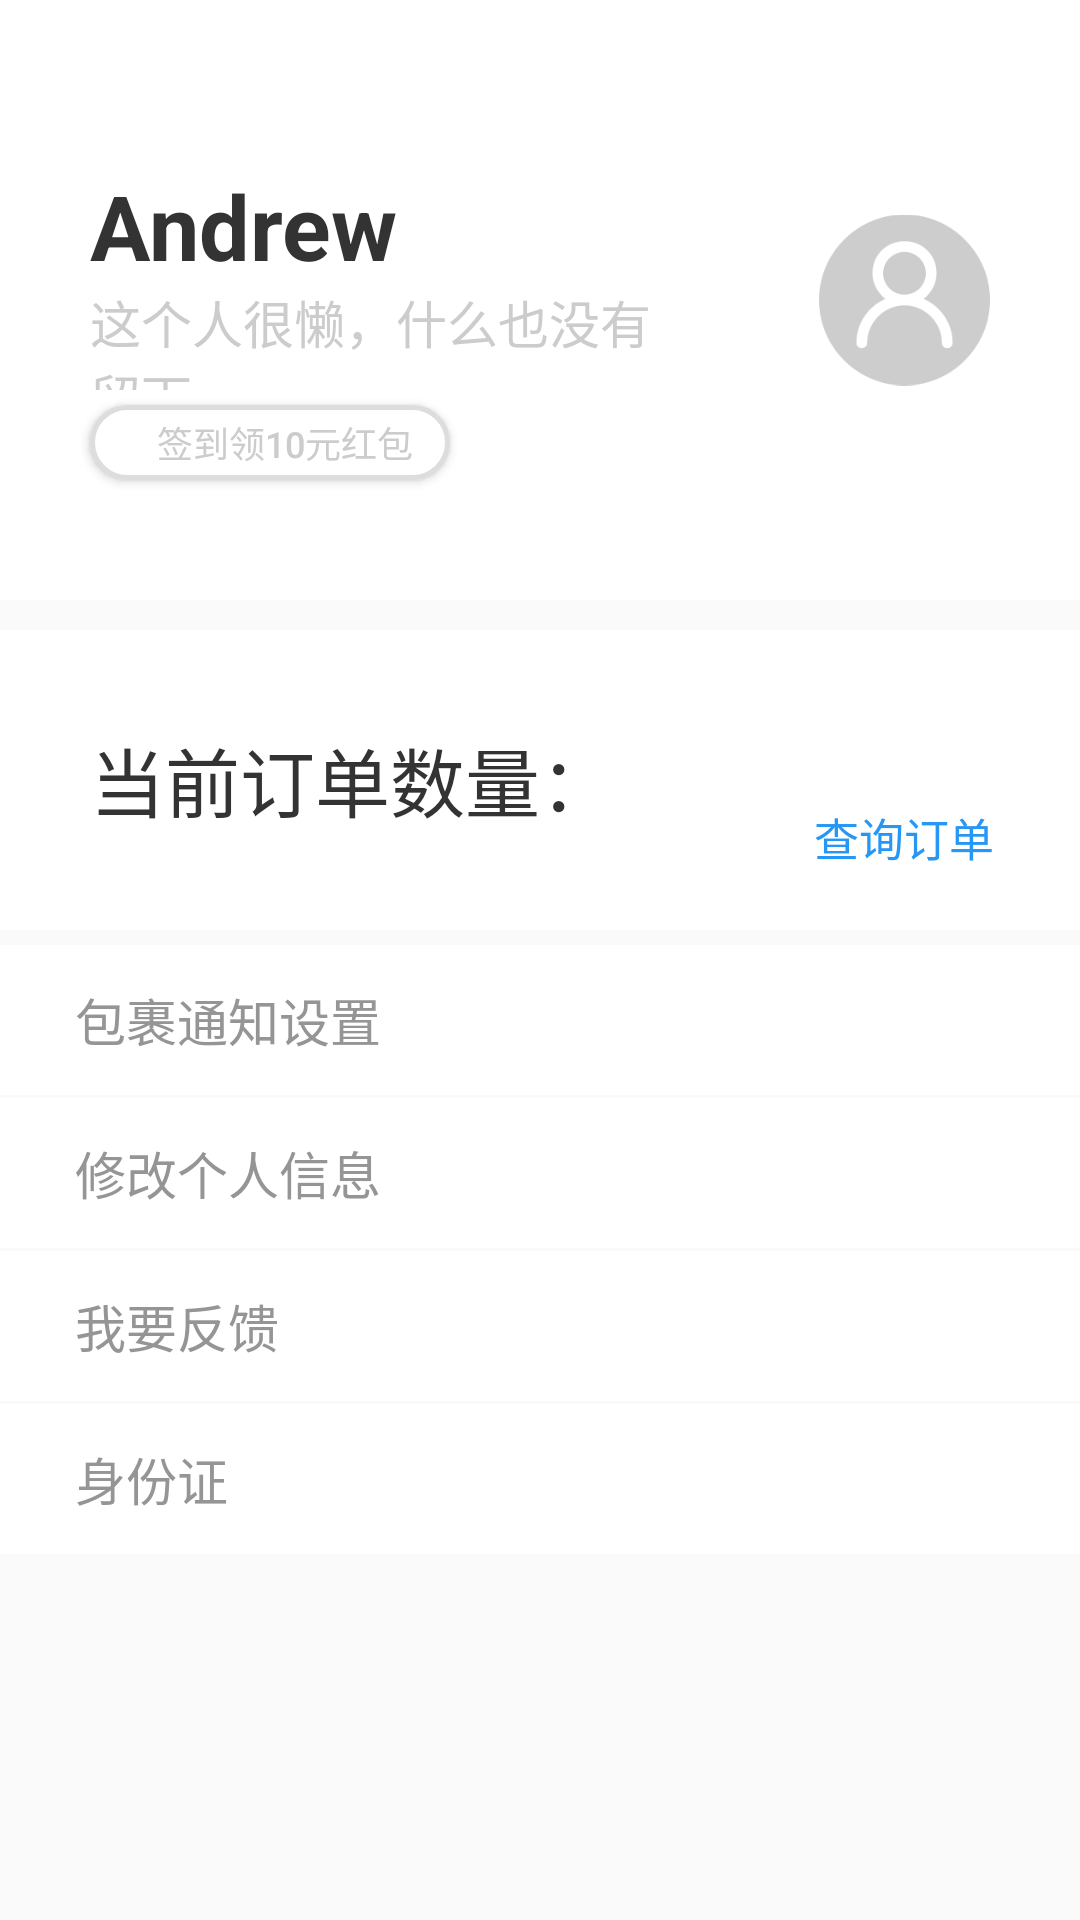

Icon click points for this 1080×1920 phone screenshot, format (x=x, y=y):
touxiang: (x=904, y=300)
